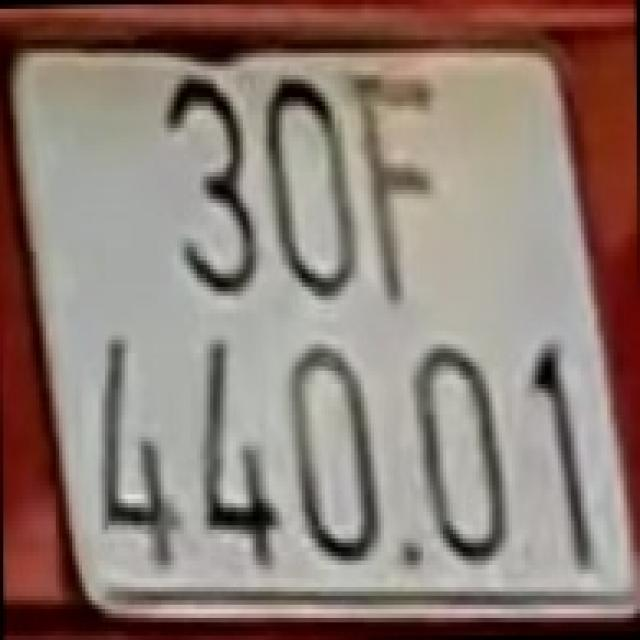0: (410, 335, 512, 565), (286, 335, 384, 565), (266, 71, 358, 300)
1: (528, 340, 598, 574)
3: (158, 71, 259, 300)
4: (92, 331, 180, 574), (194, 335, 279, 574)
F: (355, 70, 443, 304)
